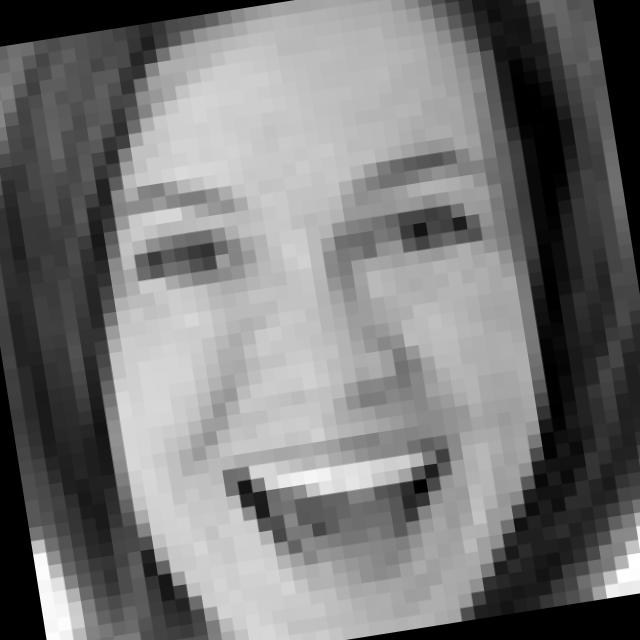happy: (100, 119, 561, 640)
